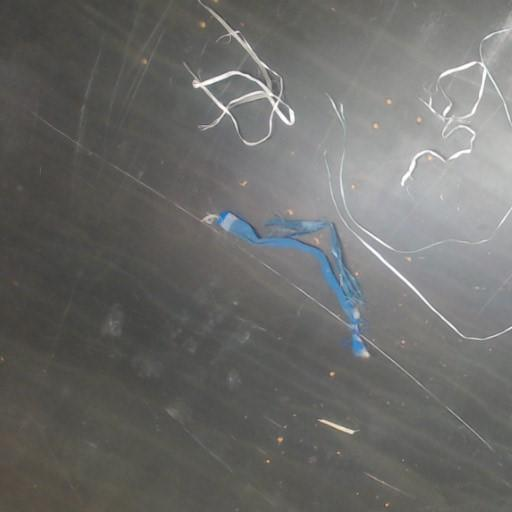cloth: (216, 211, 368, 355)
thread: (184, 0, 294, 146)
